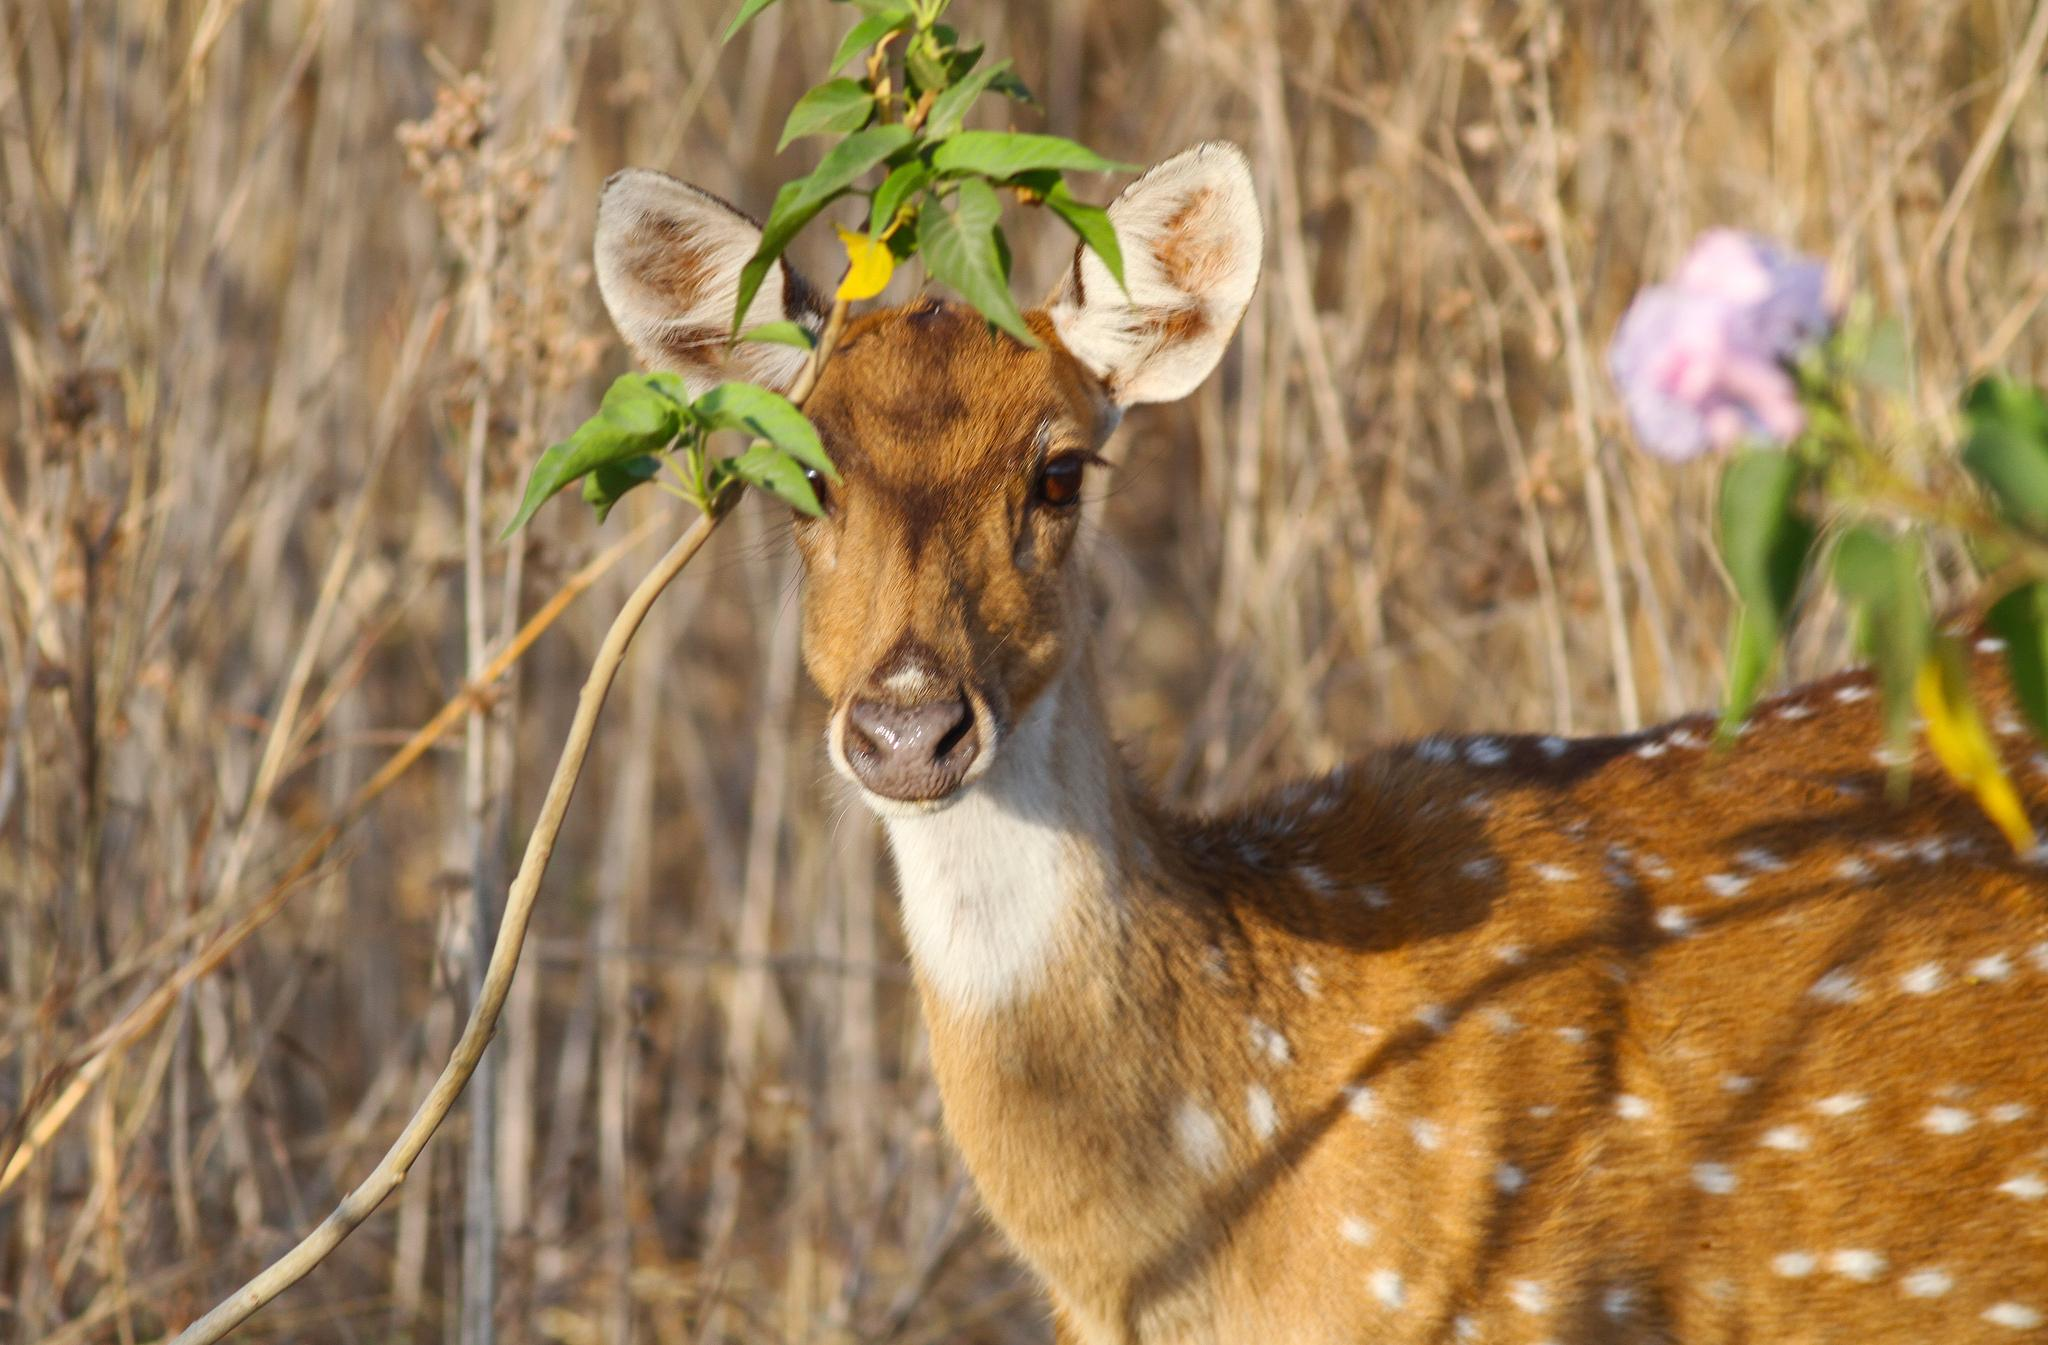Deer: (596, 143, 2046, 1340)
